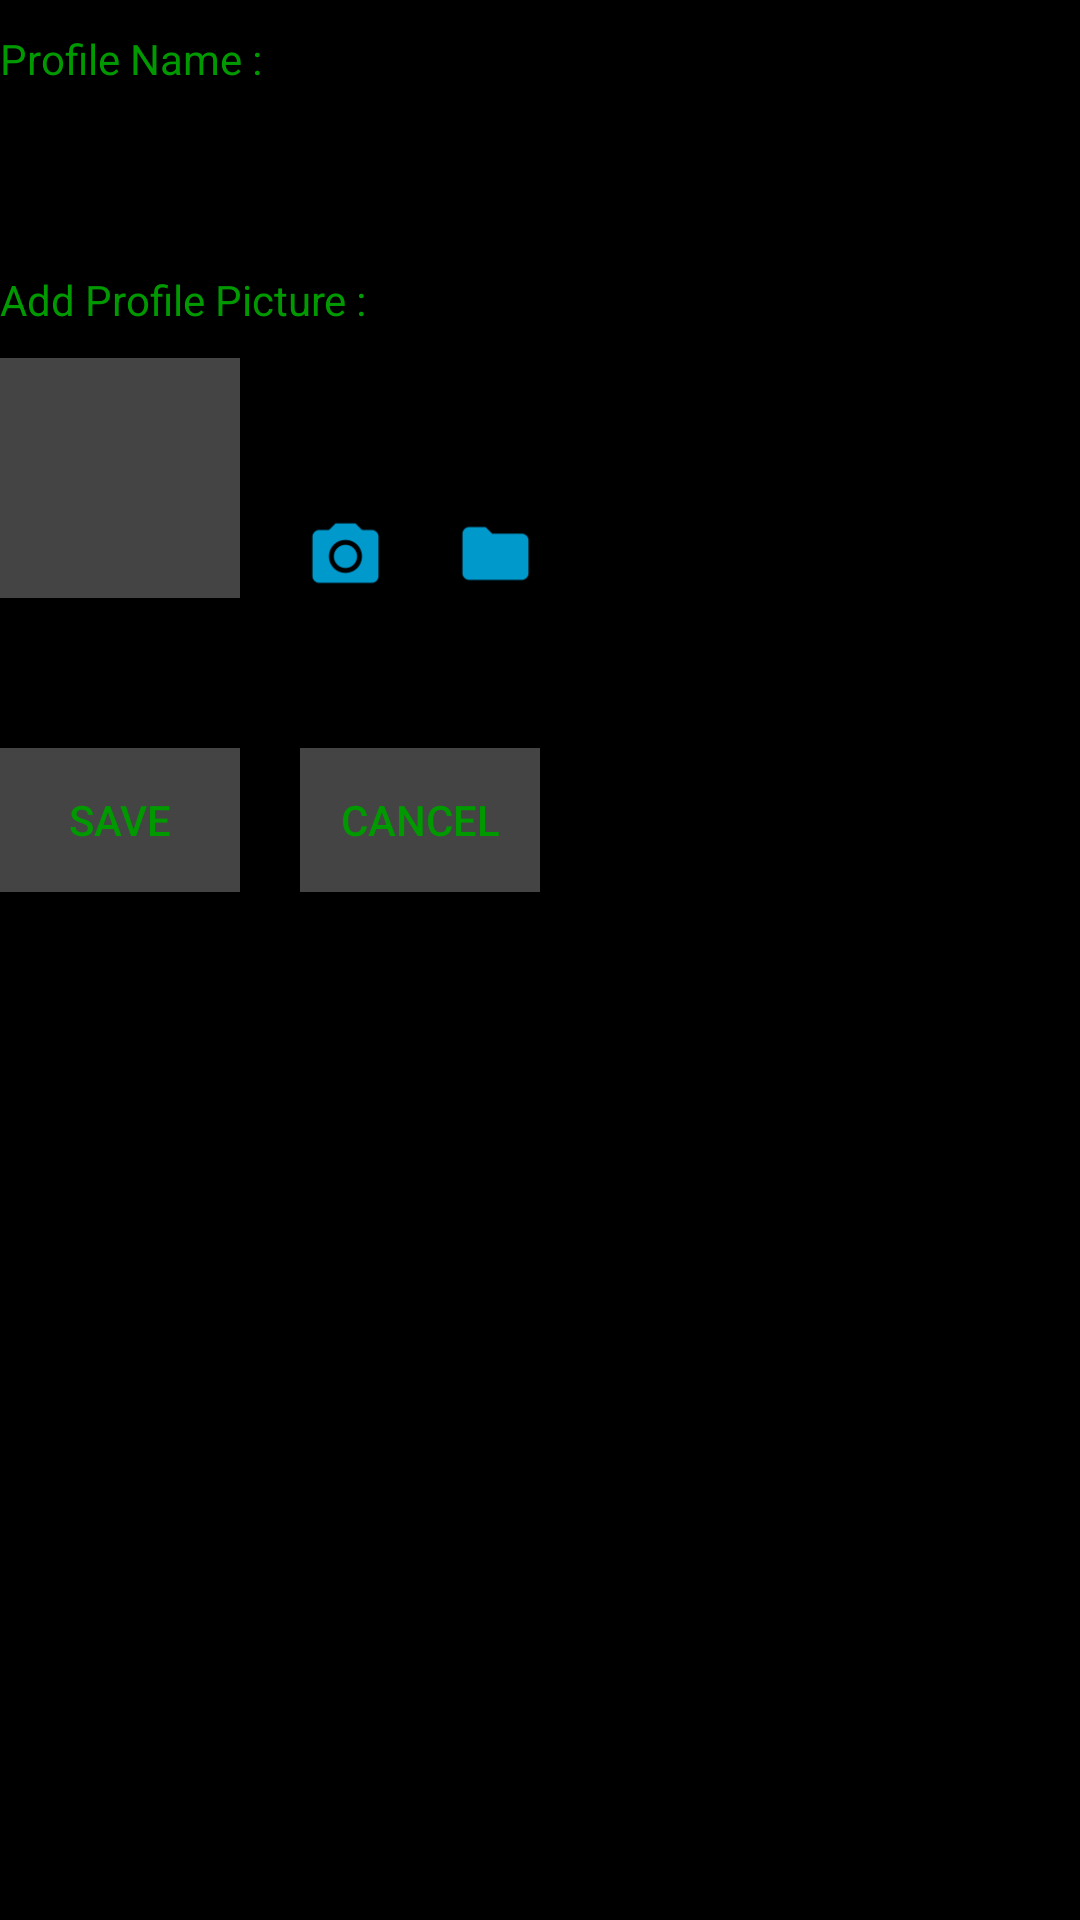

Where icons sit on this 1080px×1920px app screen, as {"left": x1, "top": y1, "right": x2, "bottom": y2}:
camera: {"left": 312, "top": 523, "right": 379, "bottom": 584}
file: {"left": 462, "top": 526, "right": 529, "bottom": 581}
